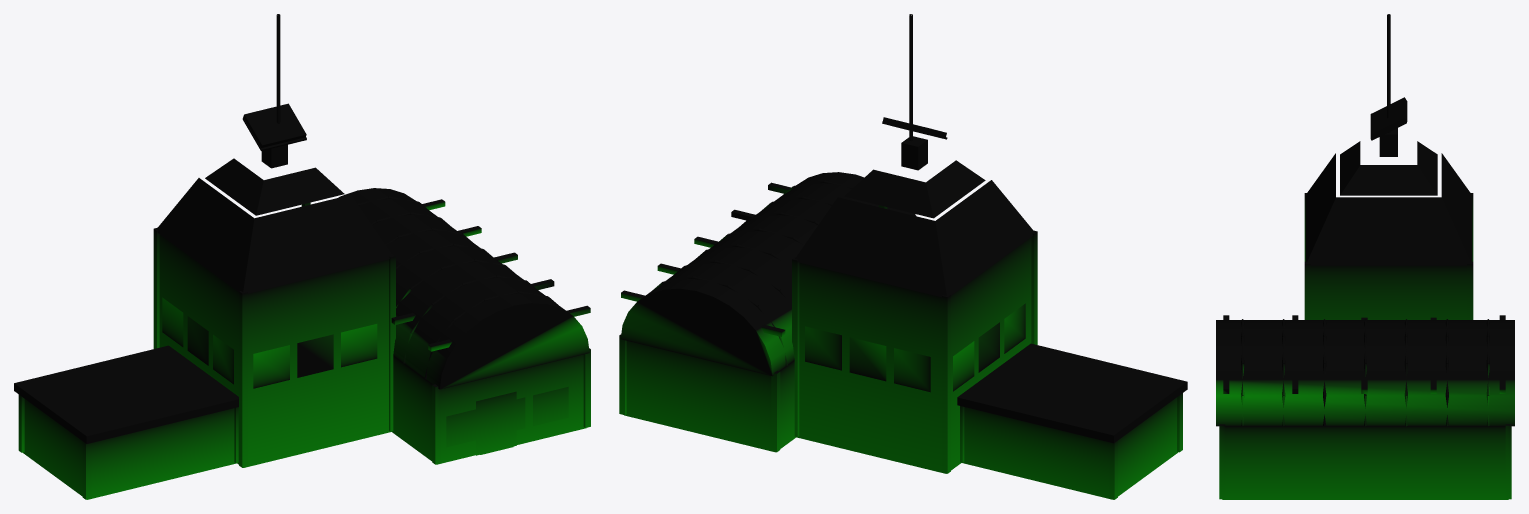
Rendered from d_gatecontrol.glb.
3 renders of one model, left to right at view 1: azimuth 30°, elevation 25°; view 2: azimuth 150°, elevation 25°; view 3: azimuth 270°, elevation 25°, orthographic. The views are drawn at different scales.
Parts seen in each view (by area): view 1: lod0; view 2: lod0; view 3: lod0.
Part boxes in pixels (x1,y1,x2,y2): lod0: (14,14,590,499); lod0: (619,14,1187,499); lod0: (1216,14,1514,499).
Size of what is drawn, in the model's own units: 24.7 by 20.8 by 14.7.
